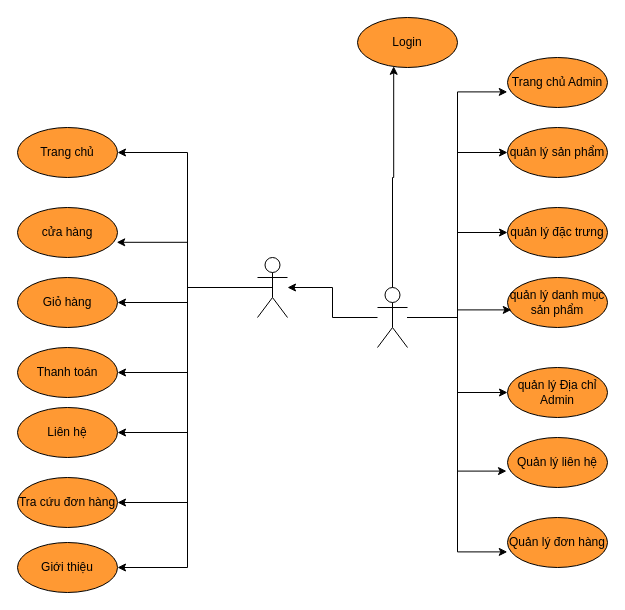
This 625x610 diagram has some shape labels left out. The box of each missing label's shape, as (x1, y1, x2, y2) in pixels:
Admin: (376, 286, 408, 348)
Users: (256, 256, 288, 318)
